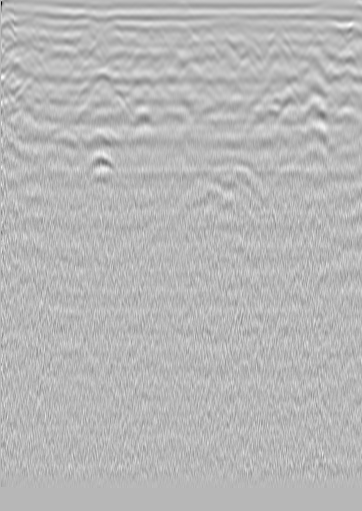가스: (80, 148, 119, 178)
상수: (323, 18, 343, 38)
오수: (31, 21, 51, 41)
우수: (194, 25, 214, 45)
